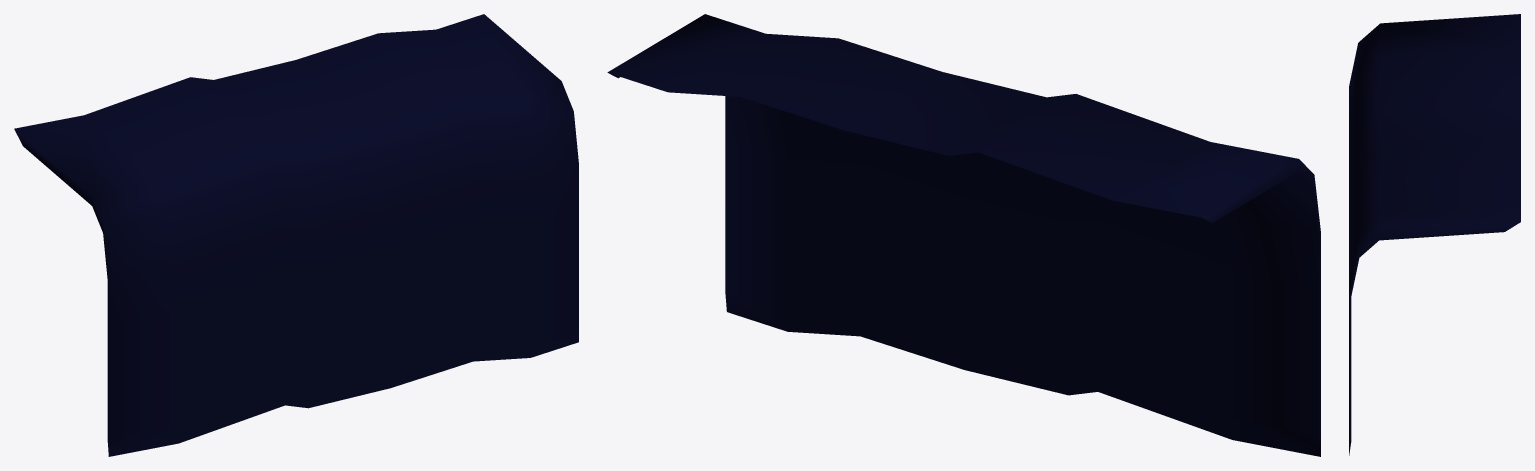
The model's file is fountain.glb.
The picture shows the model from 3 angles, left to right: view 1: azimuth 30°, elevation 25°; view 2: azimuth 150°, elevation 25°; view 3: azimuth 270°, elevation 25°; orthographic projection. The views are drawn at different scales.
Parts seen in each view (by area): view 1: reflecting-pool.001; view 2: reflecting-pool.001; view 3: reflecting-pool.001.
Boxes of the visible parts, x1,y1,x2,y2 form: reflecting-pool.001: [14, 14, 578, 456]; reflecting-pool.001: [607, 14, 1320, 456]; reflecting-pool.001: [1349, 14, 1520, 455].
Size of the model in its own units: 11.01 by 6.07 by 3.84.
